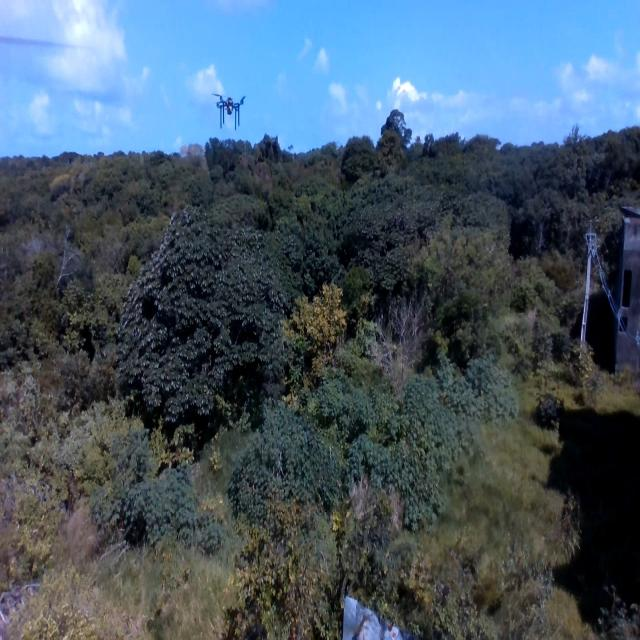-uav-: (206, 85, 252, 139)
